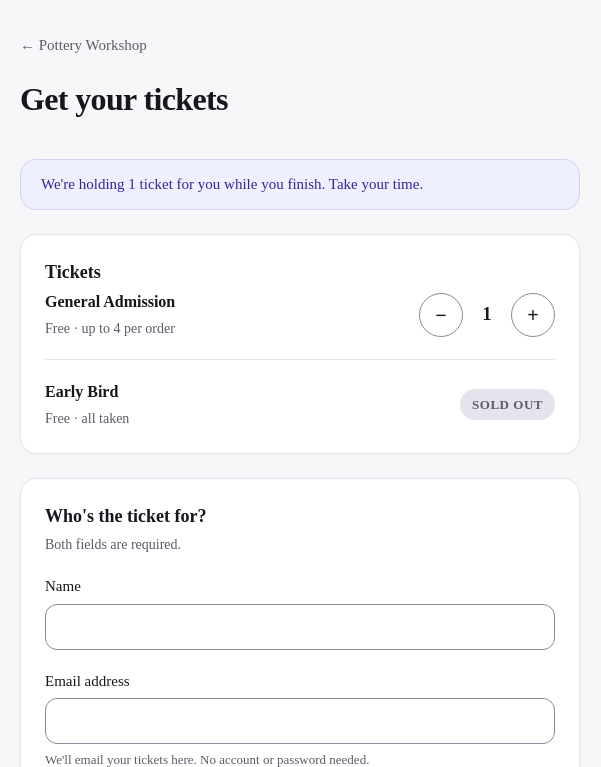
it: Checkout component (S2-2) › handles ran-out at submit: displays error alert and updates steppers (Row 2.5)
# Select 2 tickets
Click the button named "Increase quantity for General Admission" at (533,314), box [511,292,555,336]
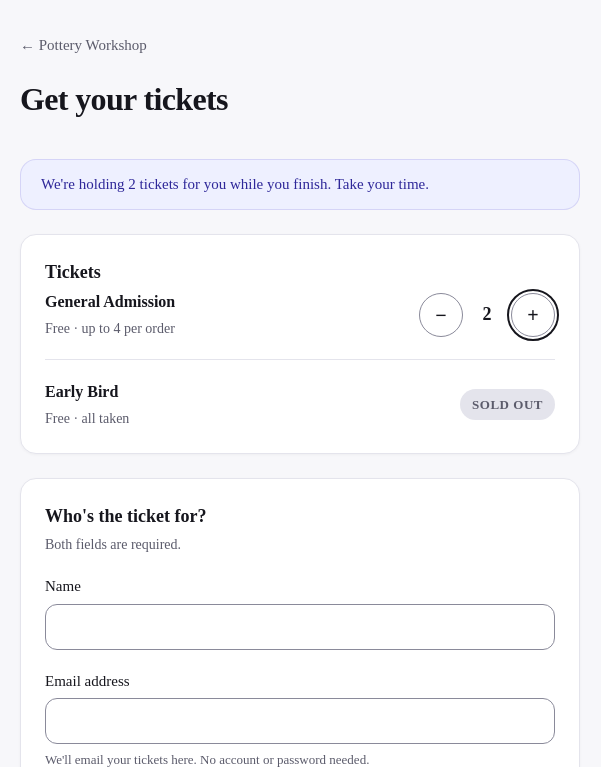
Type "Alex Example" into the field labelled "Name" at (300,626), box [45,604,555,650]
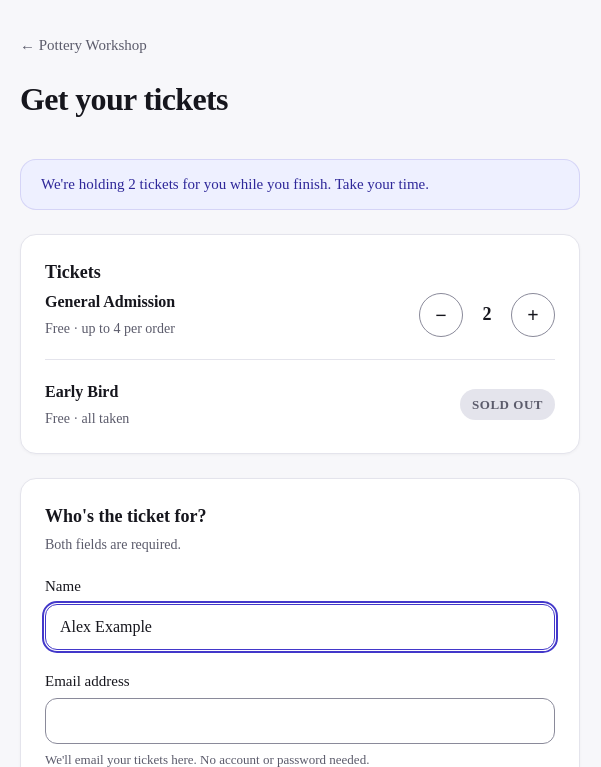
Type "alex@example.test" into the field labelled "Email address" at (300,721), box [45,698,555,744]
(page scrolled)
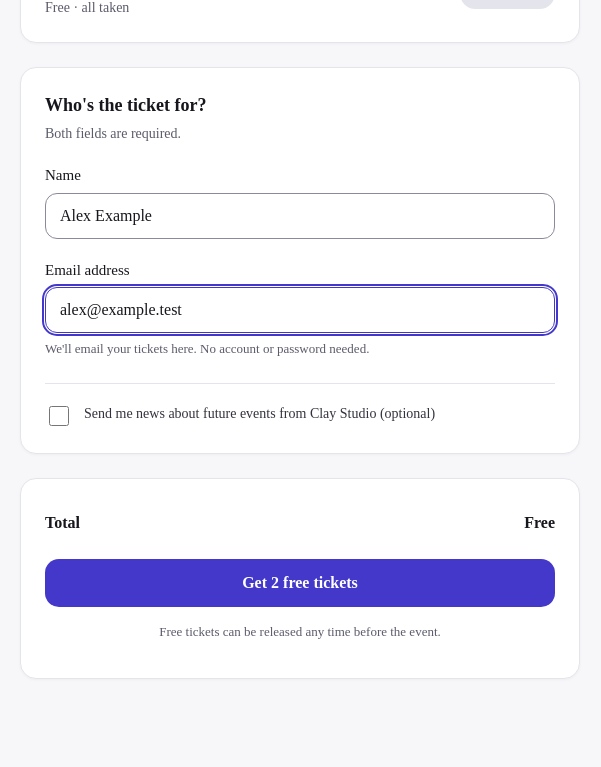
Click the button "Get 2 free tickets" at (300,582), box [45,558,555,606]
(page scrolled)
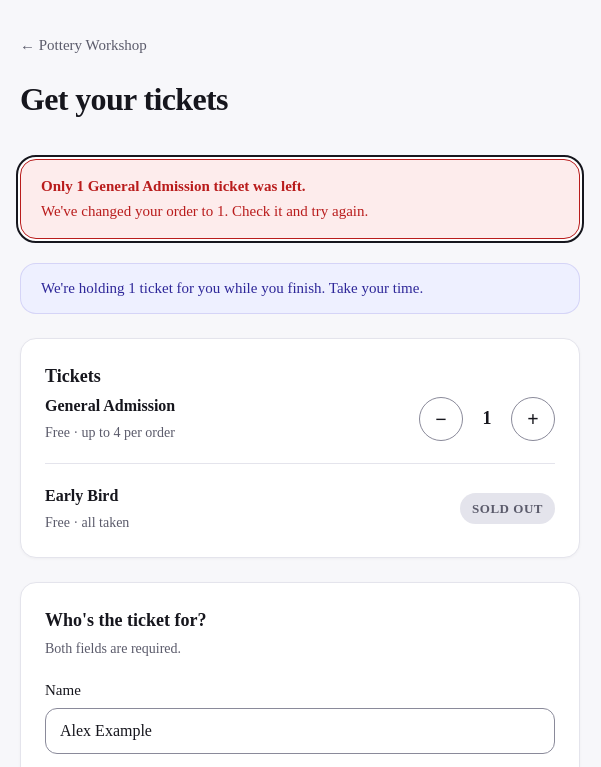
Check: the 1st message shows "Only 1 General Admission ticket was left.", box [41,178,306,194]
Check: the 1st message shows "We've changed your order to 1. Check it and try again.", box [41,203,368,219]
